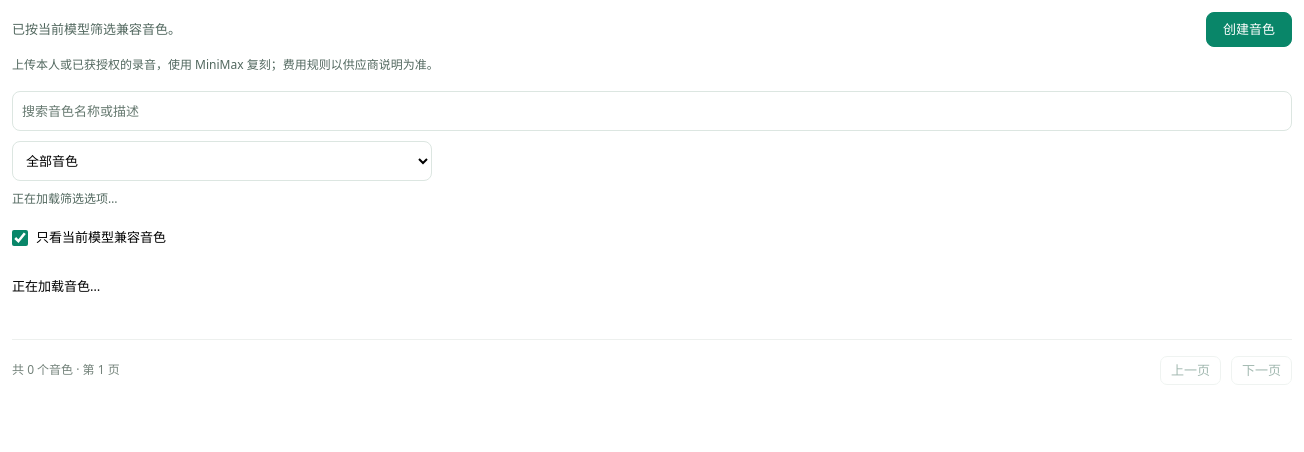
Scenario: 公共音色库业务交互 › 搜索切换会取消旧请求，迟到的列表和筛选选项不能覆盖新结果
In the field named "搜索公共音色": {"x": 652, "y": 111} [12,91,1292,131], type "新旁白"
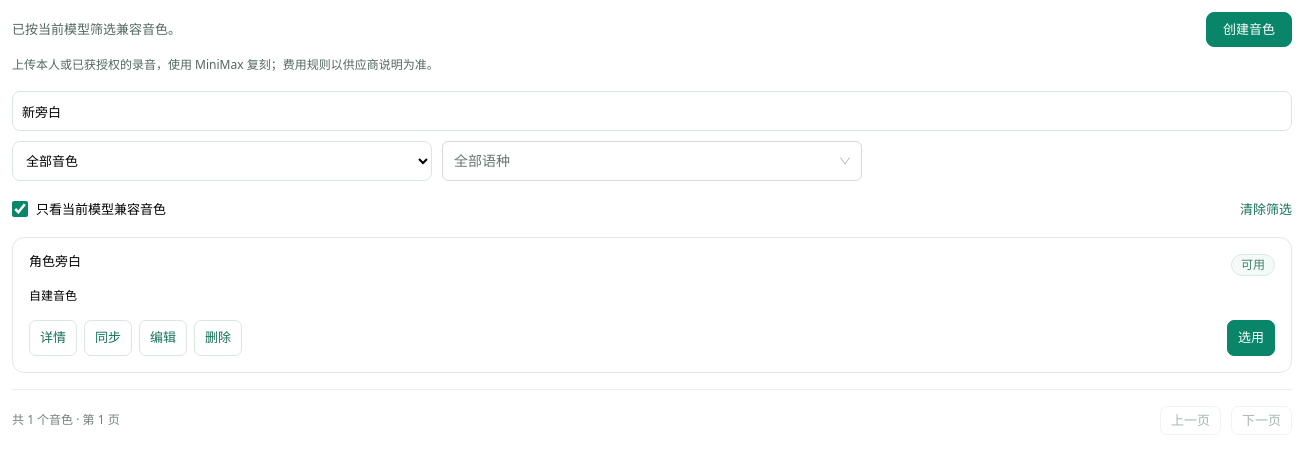
Expected: the button "选用" is shown, [1227,320,1275,356]
Press the mouse on the dropdown named "音色语种": {"x": 643, "y": 161} [454,146,832,176]
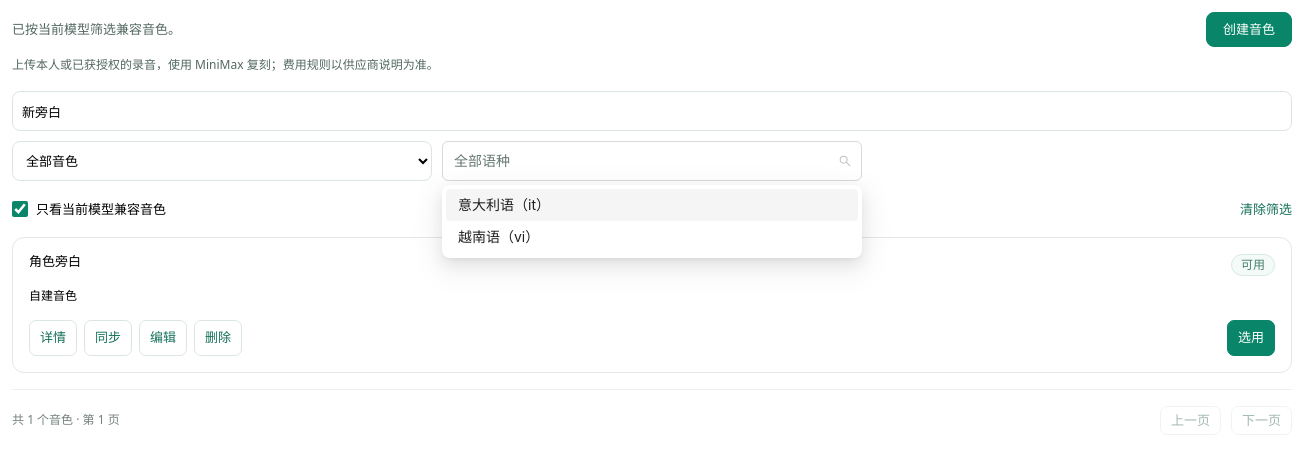
Expected: the text "越南语（vi）" is shown, [458,228,539,245]
